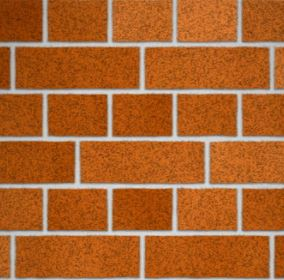brick: (142, 46, 272, 91), (12, 45, 141, 90), (143, 235, 271, 278), (78, 140, 209, 182), (15, 235, 141, 277), (1, 140, 77, 184), (208, 141, 284, 184), (46, 92, 109, 138), (110, 186, 174, 231), (112, 92, 173, 138), (176, 92, 238, 137), (45, 1, 108, 44), (45, 187, 108, 230), (111, 1, 174, 43), (176, 187, 239, 229), (175, 1, 238, 42), (1, 91, 43, 138), (241, 92, 284, 137), (241, 186, 284, 230), (1, 187, 44, 230), (241, 1, 284, 43), (1, 1, 43, 42)
